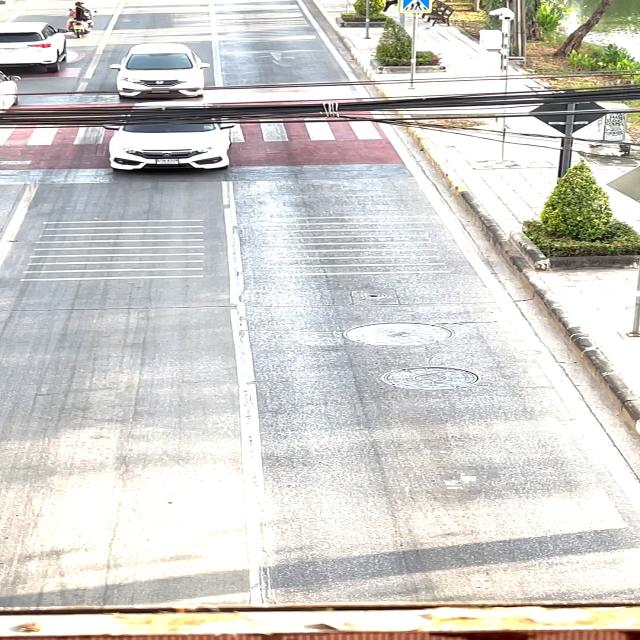car: (96, 105, 238, 184), (101, 34, 222, 101)
